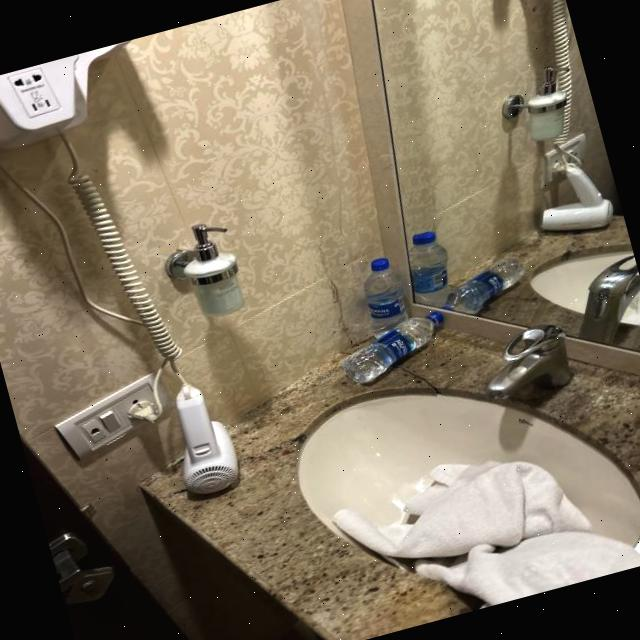disorganized_towel: (335, 458, 640, 607)
messy_sink: (260, 273, 640, 640)
